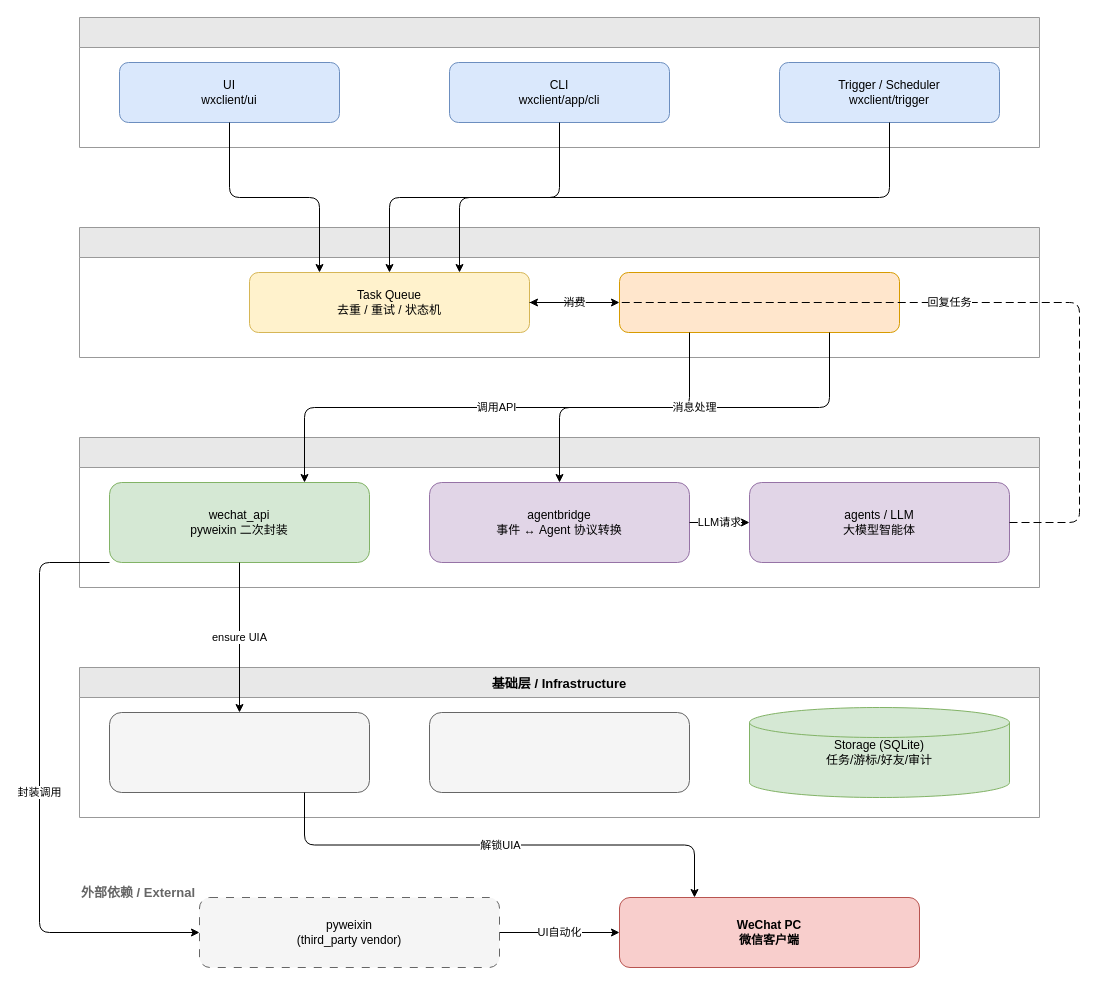
Image size: 1105x985. Some labels were removed from this diagram. Here are the shapes that lost their labels. From the top down, the box of each, then its label:
(78, 16, 1040, 148): 触发层 / Triggers
(78, 226, 1040, 358): 调度层 / Dispatch
(618, 272, 900, 332): WeChatOperationWorker 串行执行微信操作
(78, 436, 1040, 588): 业务层 / Business
(108, 712, 370, 792): uia_unlock UIA 解锁编排
(428, 712, 690, 792): config 账号/白名单/限频/LLM
